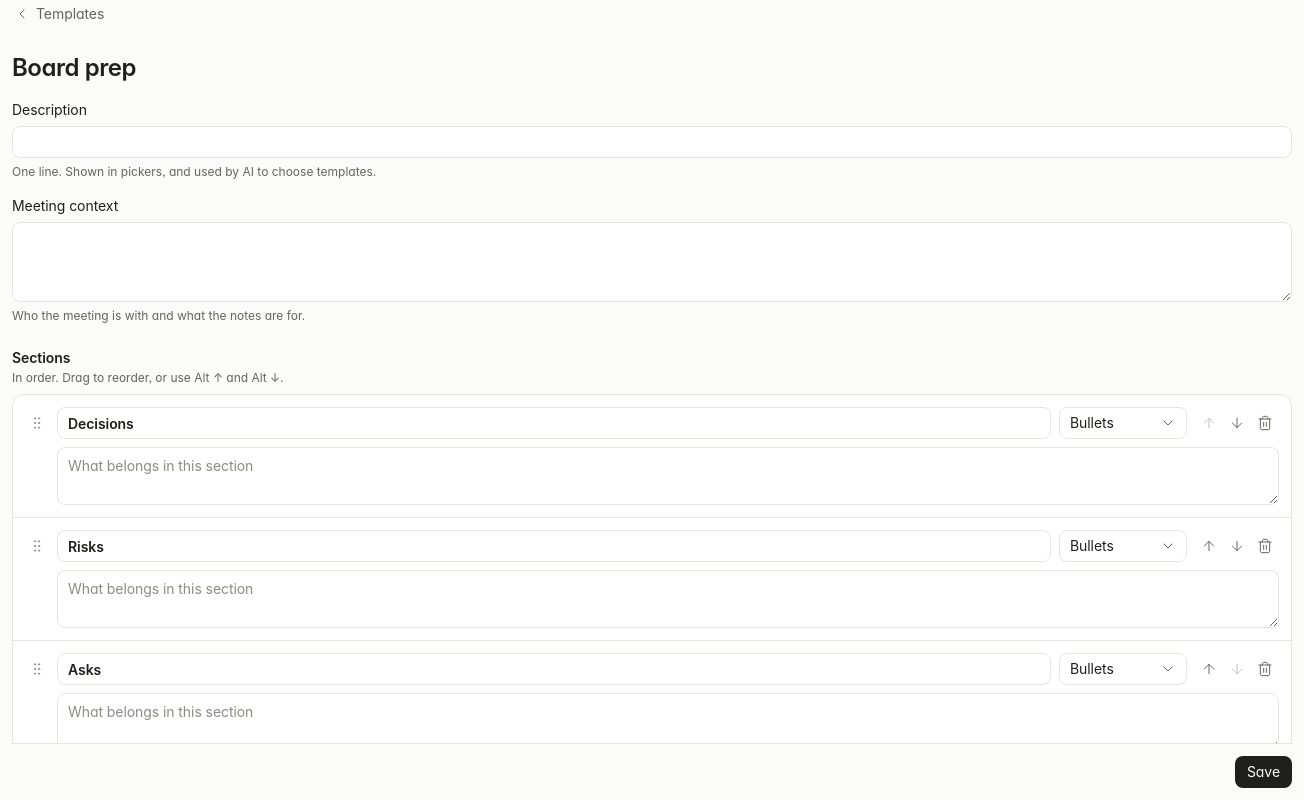
Test: the template editor › shows a rejected save inline, as Rust worded it
Click the button "Save" at (1264, 772), box [1235,756,1292,788]
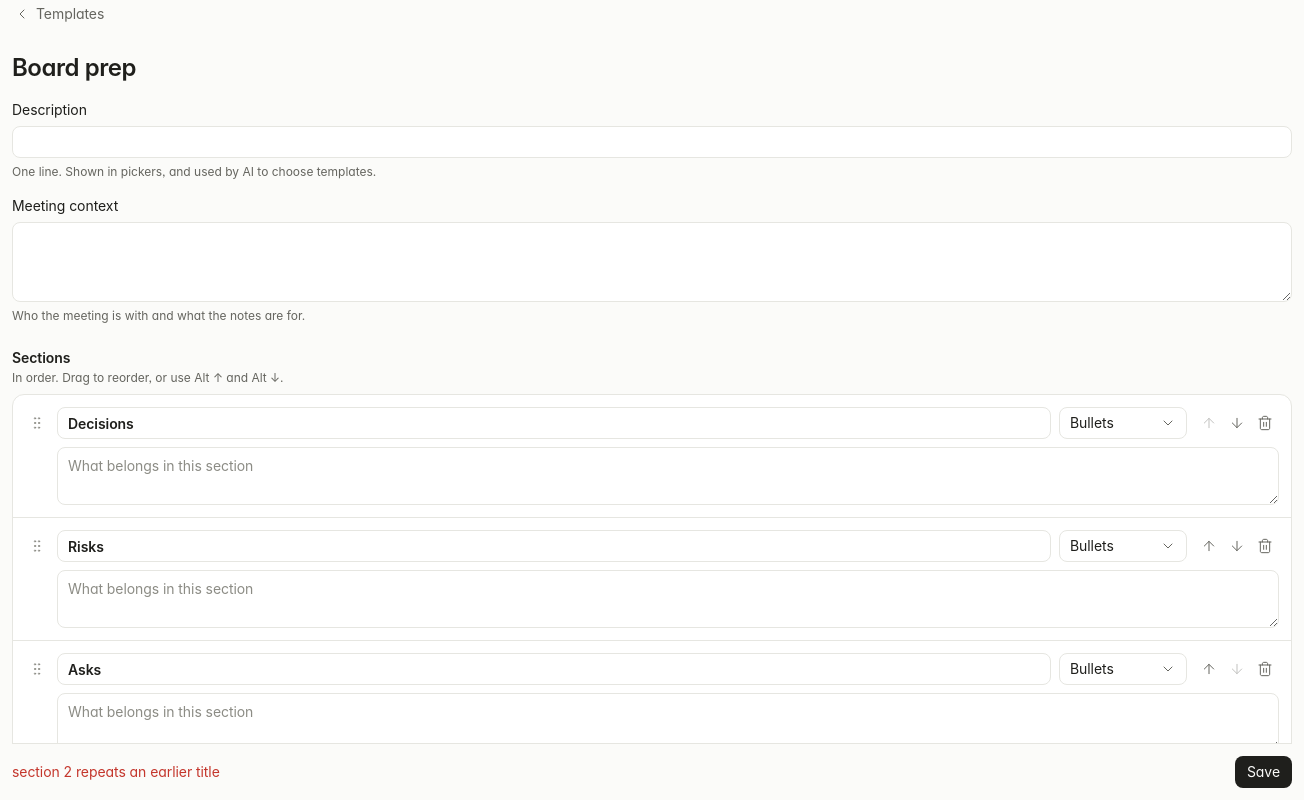
Now the message reads "section 2 repeats an earlier title", box [12,763,220,780]
